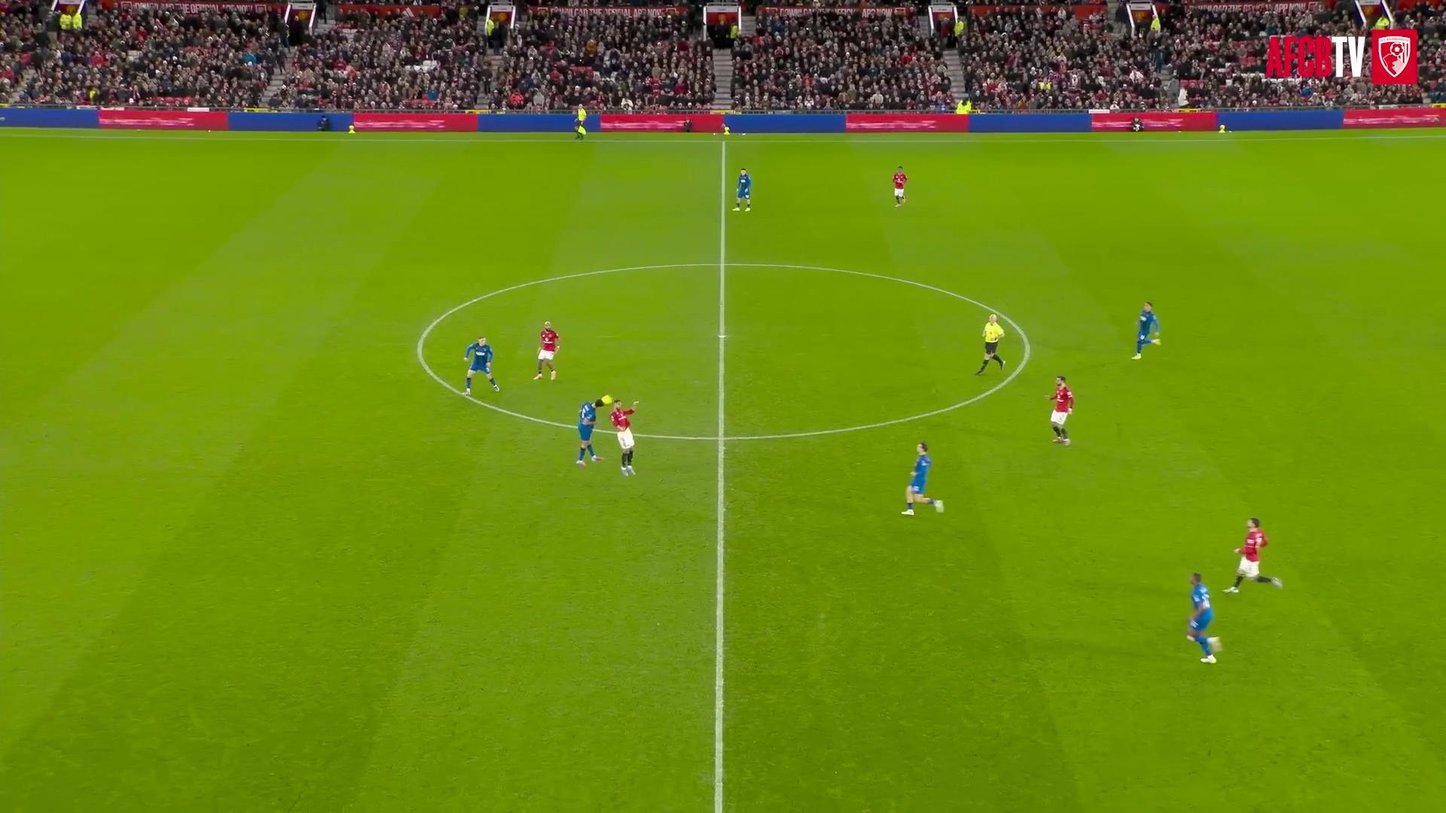football: (599, 389, 616, 409)
player: (1225, 518, 1282, 592), (901, 442, 943, 515), (1187, 572, 1220, 662), (464, 336, 499, 394), (610, 400, 637, 475), (576, 399, 604, 467), (1049, 376, 1073, 445), (1132, 301, 1160, 359), (534, 321, 558, 379), (734, 169, 751, 210), (892, 166, 908, 207), (575, 105, 586, 139)
referee: (975, 314, 1005, 373)
